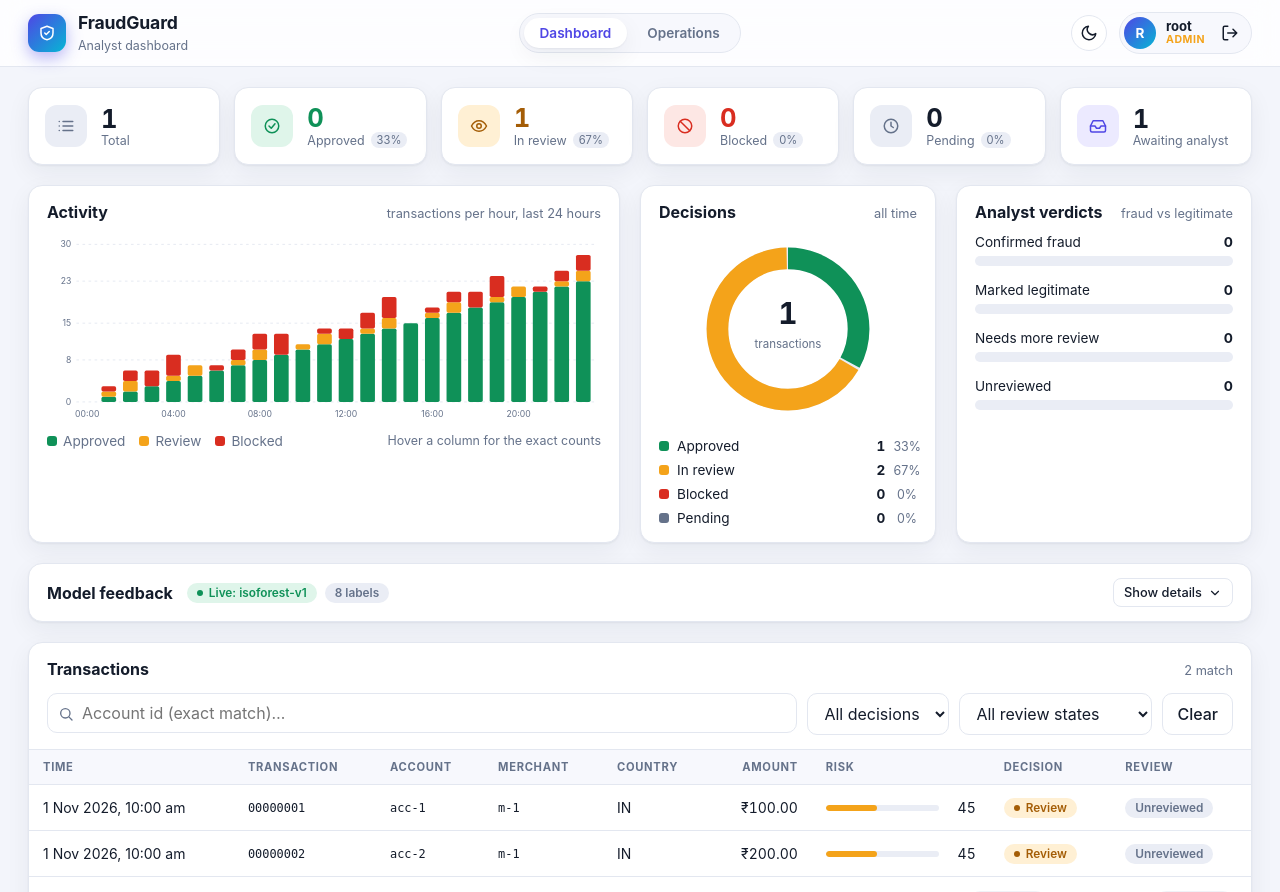
Test: dead-letter topic › says so when nothing has failed
Step 1. Click the button "Operations" → (683, 33), box [631,18,736,48]
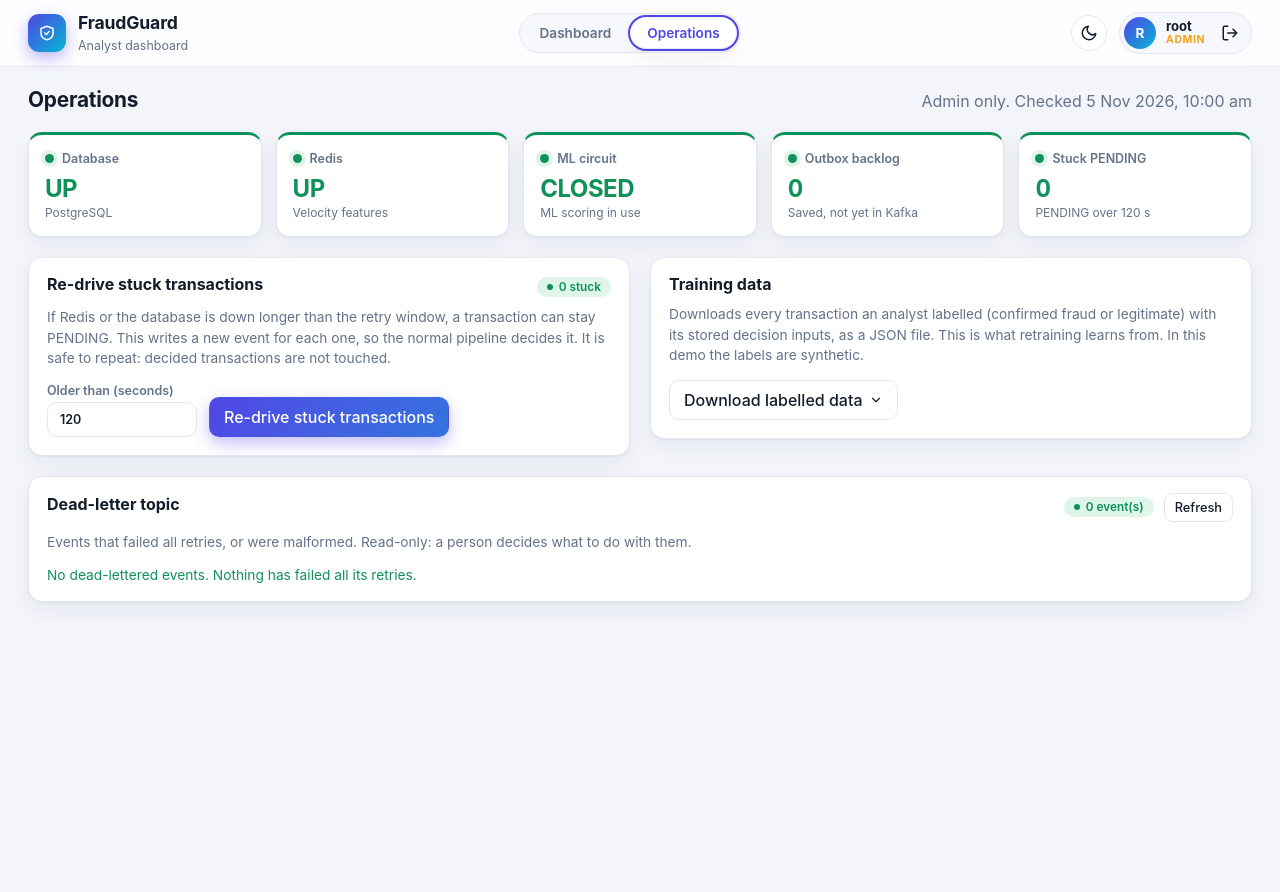
Check: the text "No dead-lettered events. Nothing has failed all its retries." is shown, box [47,567,417,583]
